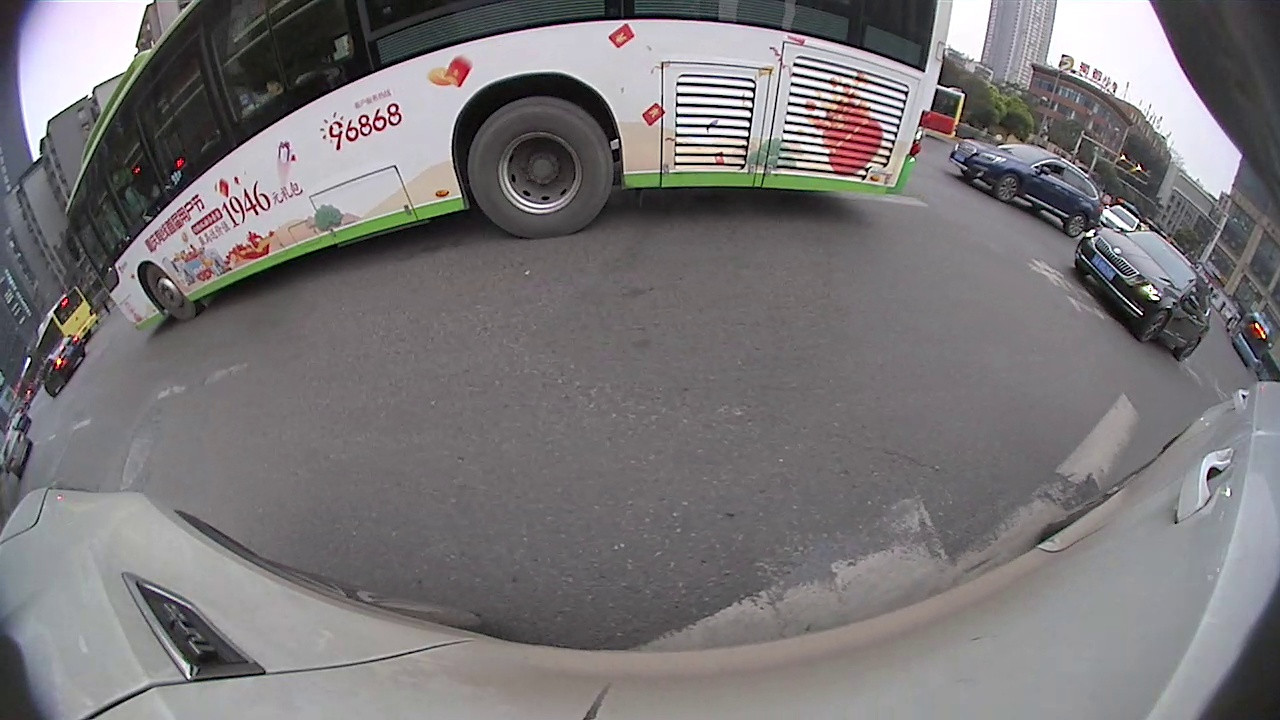bus: (67, 1, 953, 339), (29, 285, 100, 364), (920, 86, 966, 142)
car: (1074, 229, 1212, 359), (950, 137, 1100, 238), (37, 335, 87, 396)
front: (140, 261, 200, 325), (1139, 307, 1170, 343), (991, 173, 1023, 202)
rear: (464, 93, 616, 241), (1062, 213, 1088, 237)
